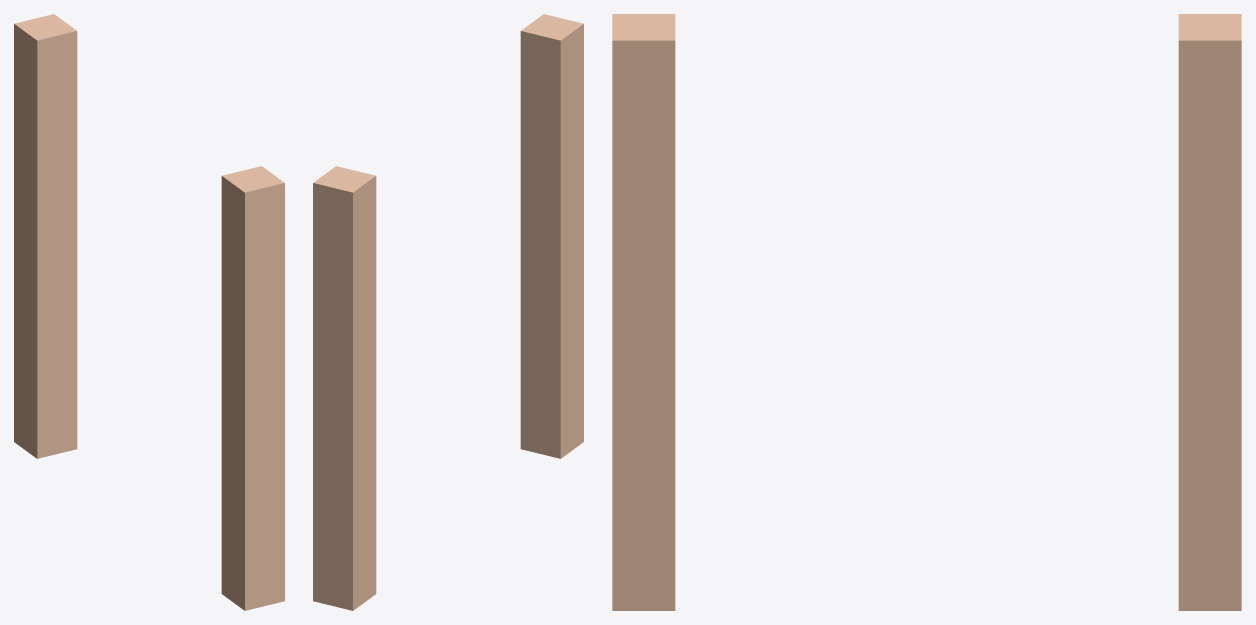
The picture shows the model from 3 angles, left to right: view 1: azimuth 30°, elevation 25°; view 2: azimuth 150°, elevation 25°; view 3: azimuth 270°, elevation 25°; orthographic projection. The views are drawn at different scales.
Parts seen in each view (by area): view 1: poles; view 2: poles; view 3: poles.
Boxes of the visible parts, x1,y1,x2,y2 form: poles: (14,14,284,610); poles: (313,14,583,610); poles: (612,14,1241,610).
Bounding box in the file's own units: 0.1 × 1 × 1.
